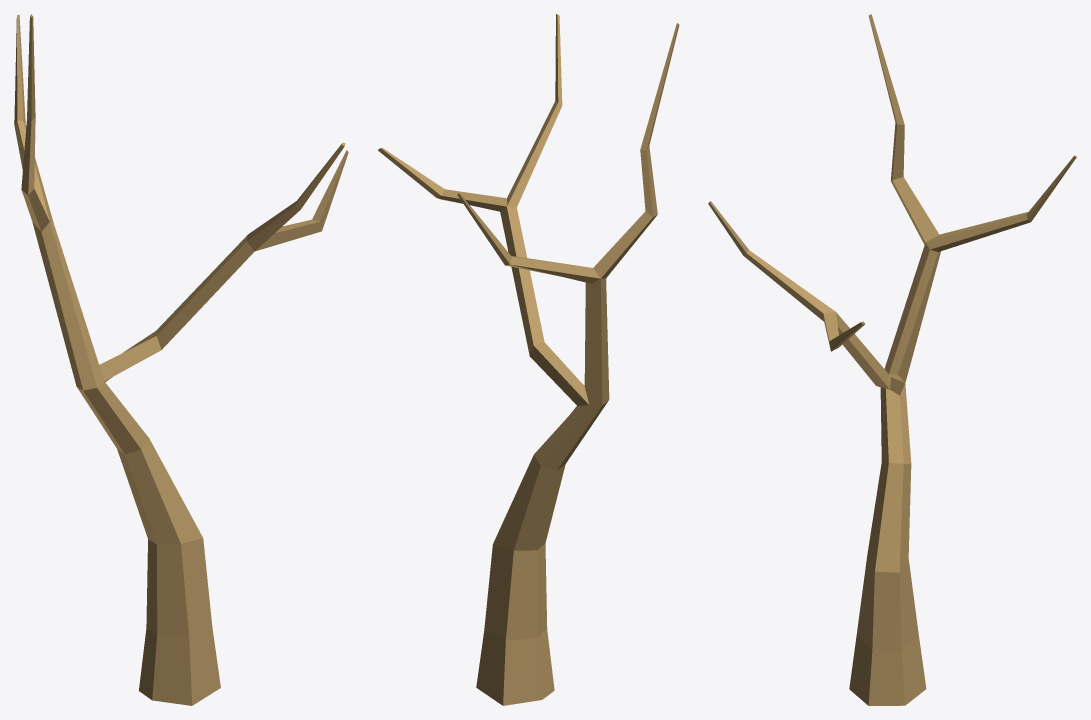
Rendered from Oak_Tree_NoLeaves_m_01.fbx.
The picture shows the model from 3 angles, left to right: view 1: azimuth 30°, elevation 25°; view 2: azimuth 150°, elevation 25°; view 3: azimuth 270°, elevation 25°; orthographic projection. The views are drawn at different scales.
Visible parts, largest first — view 1: Oak_Tree_NoLeaves_m_01; view 2: Oak_Tree_NoLeaves_m_01; view 3: Oak_Tree_NoLeaves_m_01.
Boxes of the visible parts, x1,y1,x2,y2 form: Oak_Tree_NoLeaves_m_01: (14,14,348,705); Oak_Tree_NoLeaves_m_01: (378,14,679,705); Oak_Tree_NoLeaves_m_01: (708,14,1076,705).
Bounding box in the file's own units: 308 × 673 × 366.
